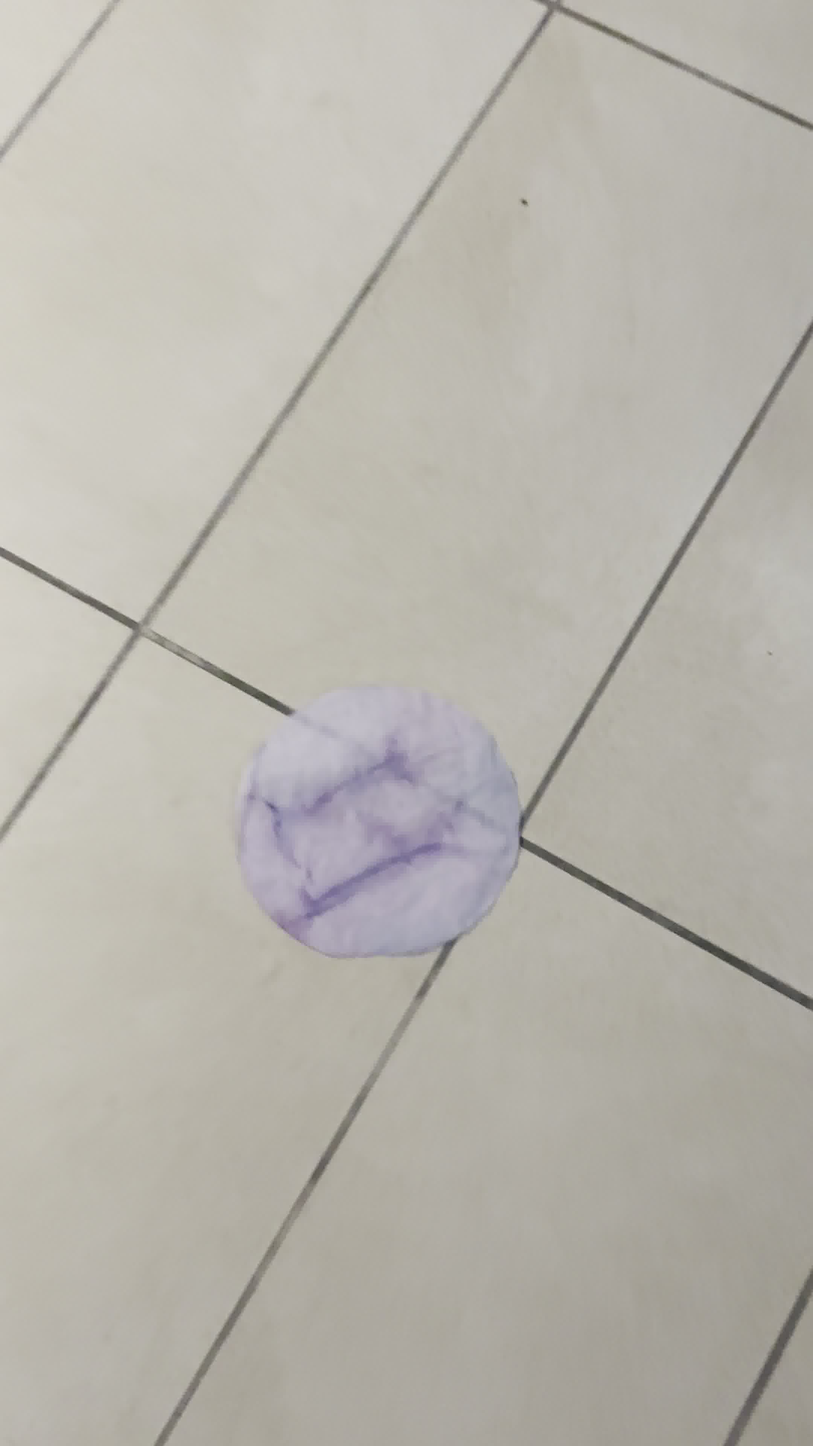Target: (231, 680, 524, 965)
